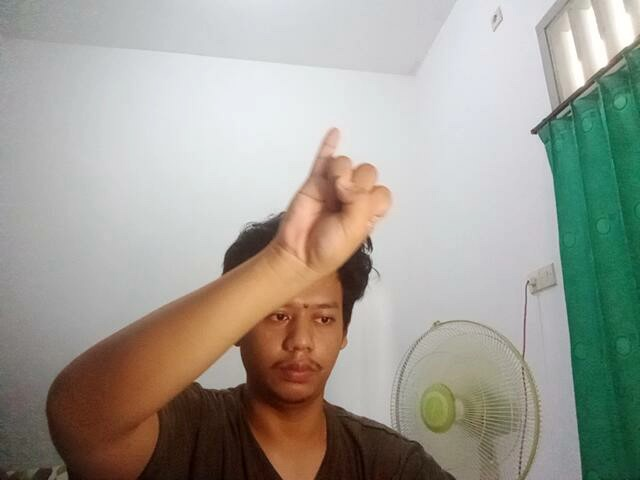I: (274, 118, 397, 268)
